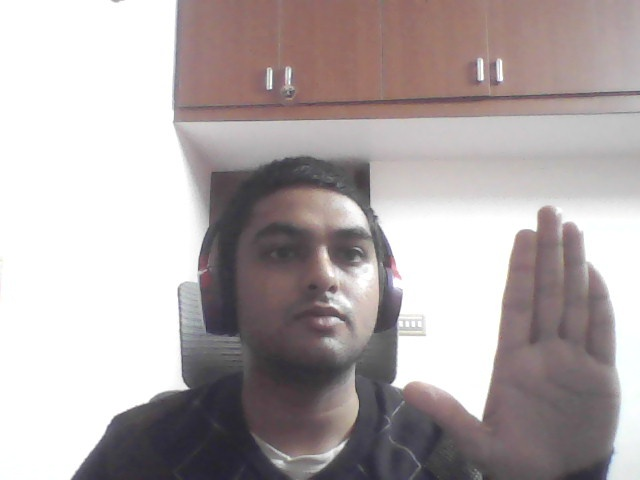Hello: (396, 192, 632, 478)
